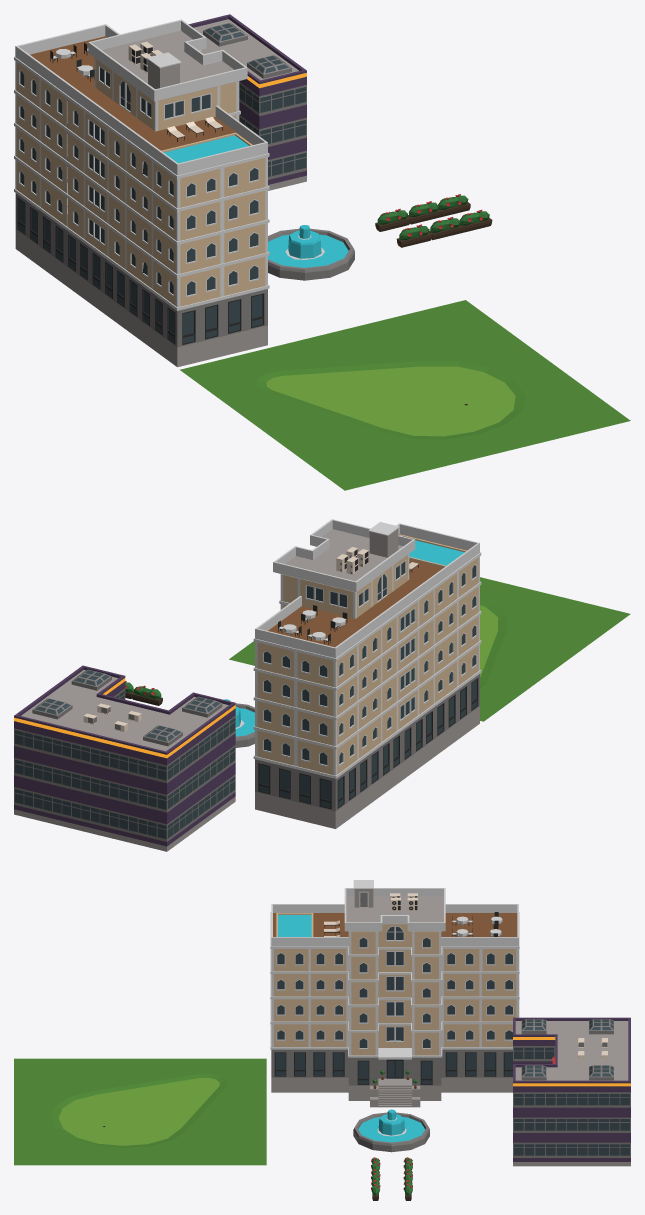
The model's file is main_scene_resort_full.glb.
The picture shows the model from 3 angles, top to bottom: view 1: azimuth 30°, elevation 25°; view 2: azimuth 150°, elevation 25°; view 3: azimuth 270°, elevation 25°; orthographic projection. The views are drawn at different scales.
Parts seen in each view (by area): view 1: building-hotel, tile-golf-green-nb.001, building-casino.001, fountain.001; view 2: building-hotel, building-casino.001, tile-golf-green-nb.001, fountain.001; view 3: building-hotel, tile-golf-green-nb.001, building-casino.001, fountain.001.
Boxes of the visible parts, x1,y1,x2,y2 form: building-hotel: (14, 19, 269, 367); tile-golf-green-nb.001: (180, 300, 630, 490); building-casino.001: (67, 14, 306, 190); fountain.001: (268, 225, 354, 280); building-hotel: (253, 519, 481, 828); building-casino.001: (14, 665, 235, 851); tile-golf-green-nb.001: (229, 577, 630, 721); fountain.001: (224, 699, 254, 747); building-hotel: (270, 880, 519, 1107); tile-golf-green-nb.001: (14, 1058, 266, 1165); building-casino.001: (513, 1017, 630, 1166); fountain.001: (353, 1109, 429, 1152).
Size of the model in its own units: 40.02 by 25.7 by 73.26.
